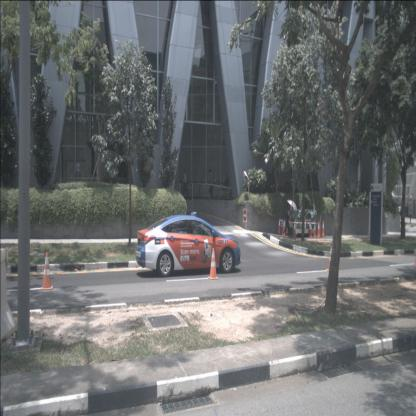human-pedestrian-adult: (282, 199, 297, 237), (181, 169, 188, 199), (208, 168, 214, 201), (222, 171, 229, 199), (92, 168, 97, 191), (406, 203, 409, 216), (398, 204, 401, 215), (404, 204, 406, 216)
movable_object-barrier: (0, 247, 16, 347)
movable_object-trafficcone: (41, 252, 53, 290), (208, 248, 219, 280), (326, 245, 333, 272), (277, 217, 281, 235), (282, 218, 286, 236), (292, 221, 296, 238), (313, 222, 317, 238), (308, 221, 312, 237), (280, 218, 284, 234), (317, 222, 321, 238), (321, 221, 325, 237), (286, 220, 289, 235)
vehicle-car: (135, 214, 241, 274)
